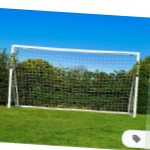goals: (7, 44, 141, 120)
